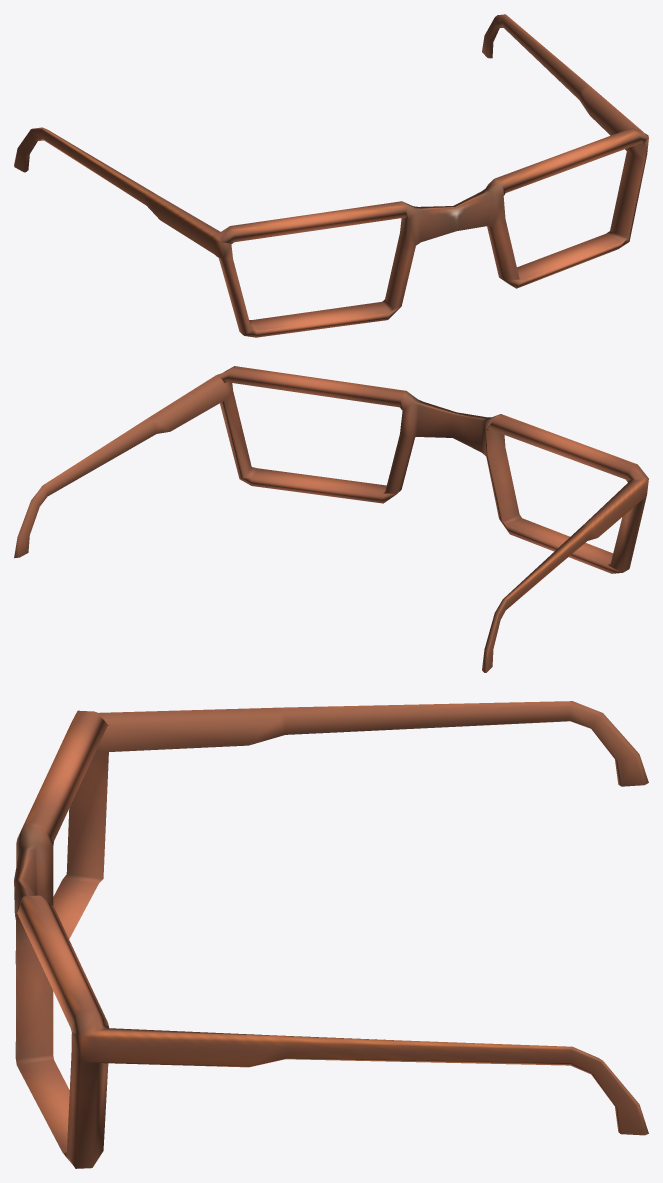
Rendered from Toru_glasses.fbx.
3 views of the same model, one above another, from view 1: azimuth 30°, elevation 25°; view 2: azimuth 150°, elevation 25°; view 3: azimuth 270°, elevation 25° (orthographic). The views are drawn at different scales.
Visible parts, largest first — view 1: Toru_glasses; view 2: Toru_glasses; view 3: Toru_glasses.
Boxes of the visible parts, x1,y1,x2,y2 form: Toru_glasses: [14, 14, 648, 337]; Toru_glasses: [14, 366, 648, 672]; Toru_glasses: [14, 701, 648, 1168].
Size of the model in its own units: 19.26 by 4.35 by 14.67.
1 material, 1 textured.
